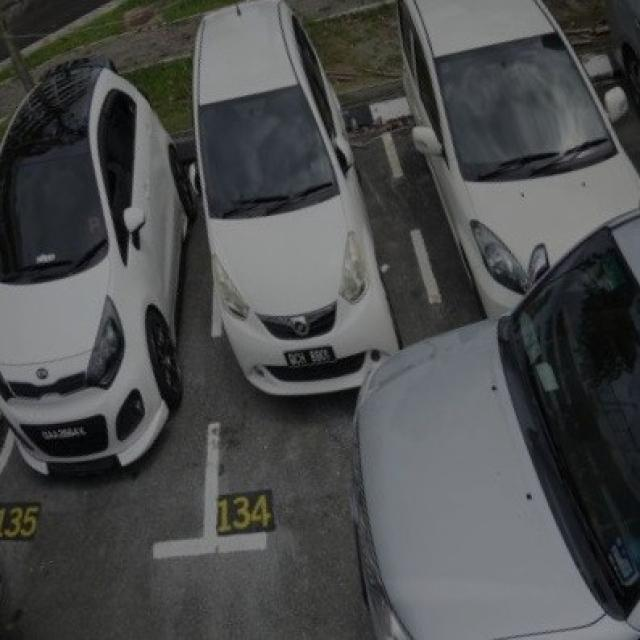Legalparking: (0, 0, 638, 638)
illegalparking: (351, 206, 638, 638)
